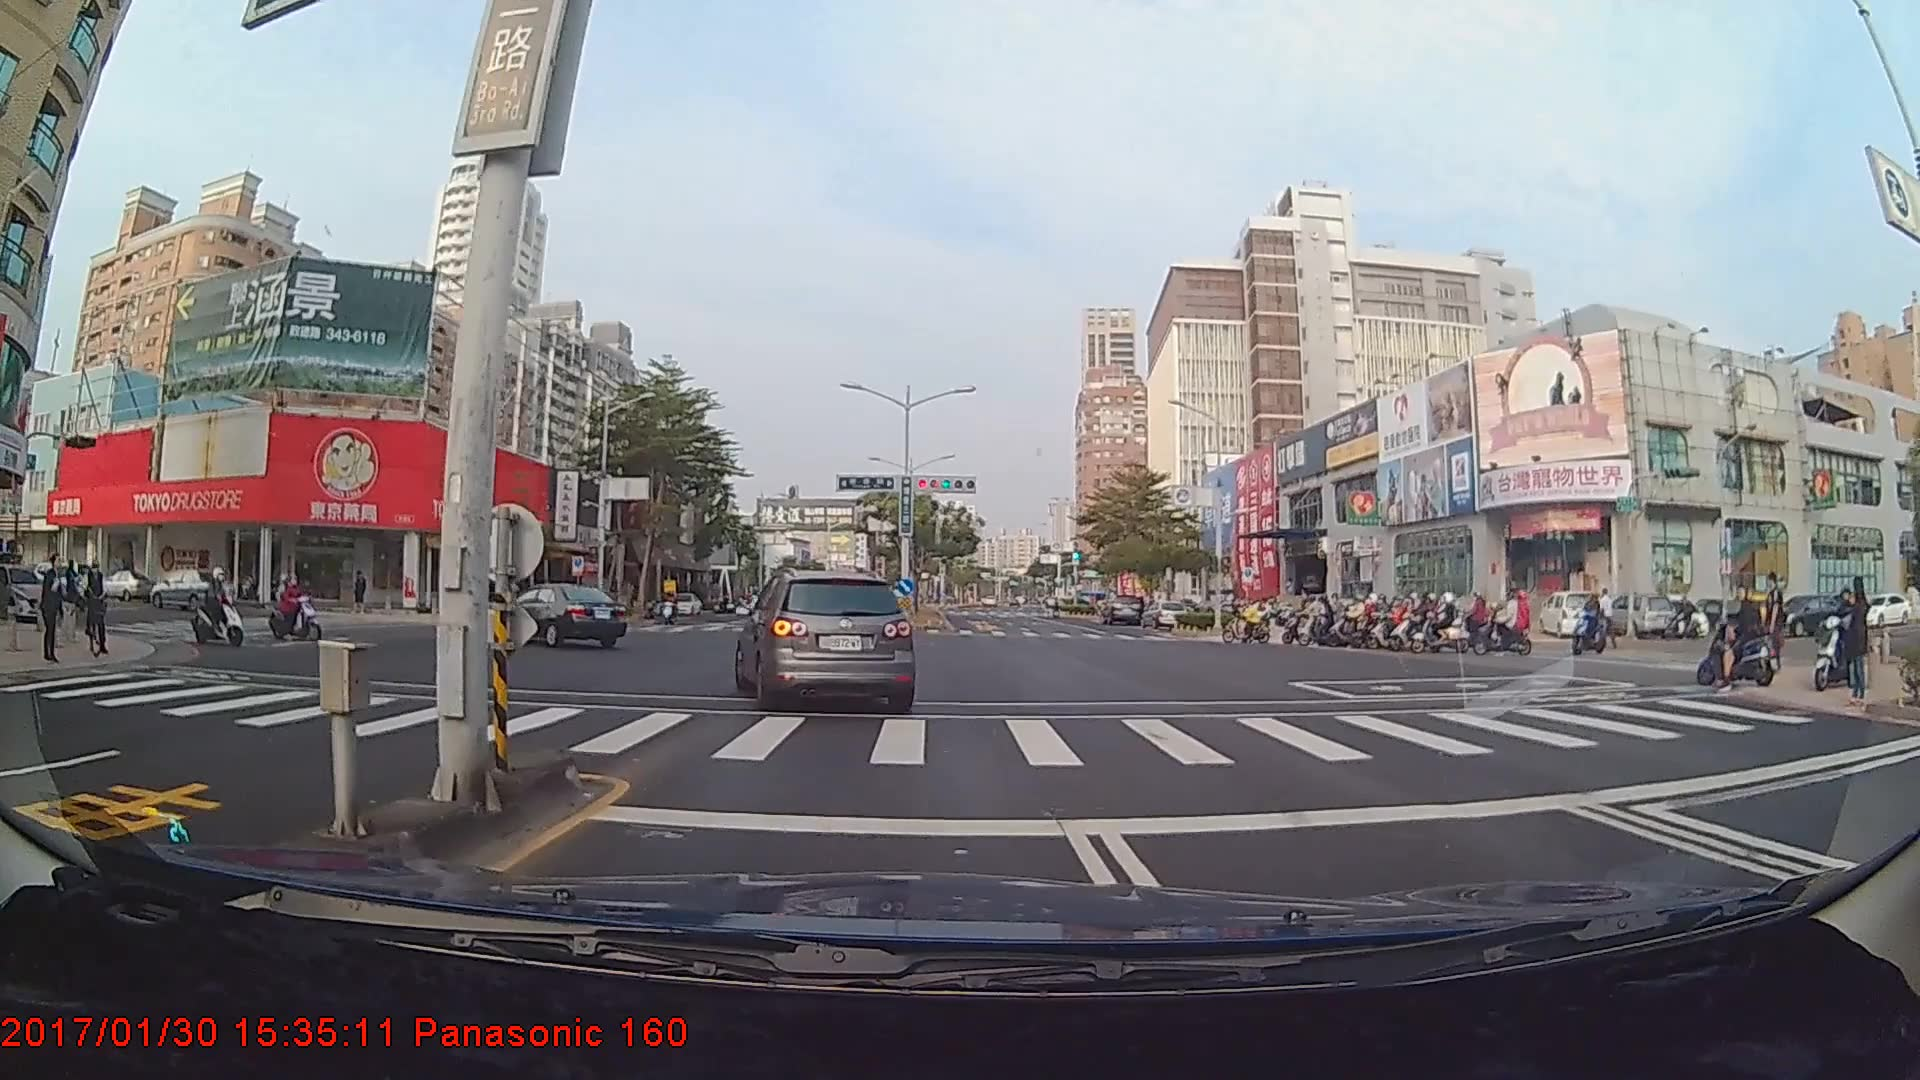pedestrian: (1843, 573, 1878, 709), (37, 552, 67, 665), (1761, 571, 1789, 677)
rider: (1696, 579, 1789, 691), (1814, 584, 1882, 691), (188, 564, 258, 650), (1473, 582, 1540, 661), (264, 575, 327, 642), (75, 556, 109, 662), (1429, 591, 1478, 652), (1278, 593, 1335, 644), (1399, 592, 1451, 646), (1570, 593, 1616, 653), (1221, 598, 1278, 643), (1341, 596, 1388, 648), (1377, 600, 1422, 647), (657, 584, 685, 621)
vehicle: (733, 569, 918, 709), (499, 583, 627, 649), (147, 566, 232, 609), (1100, 594, 1142, 626)
